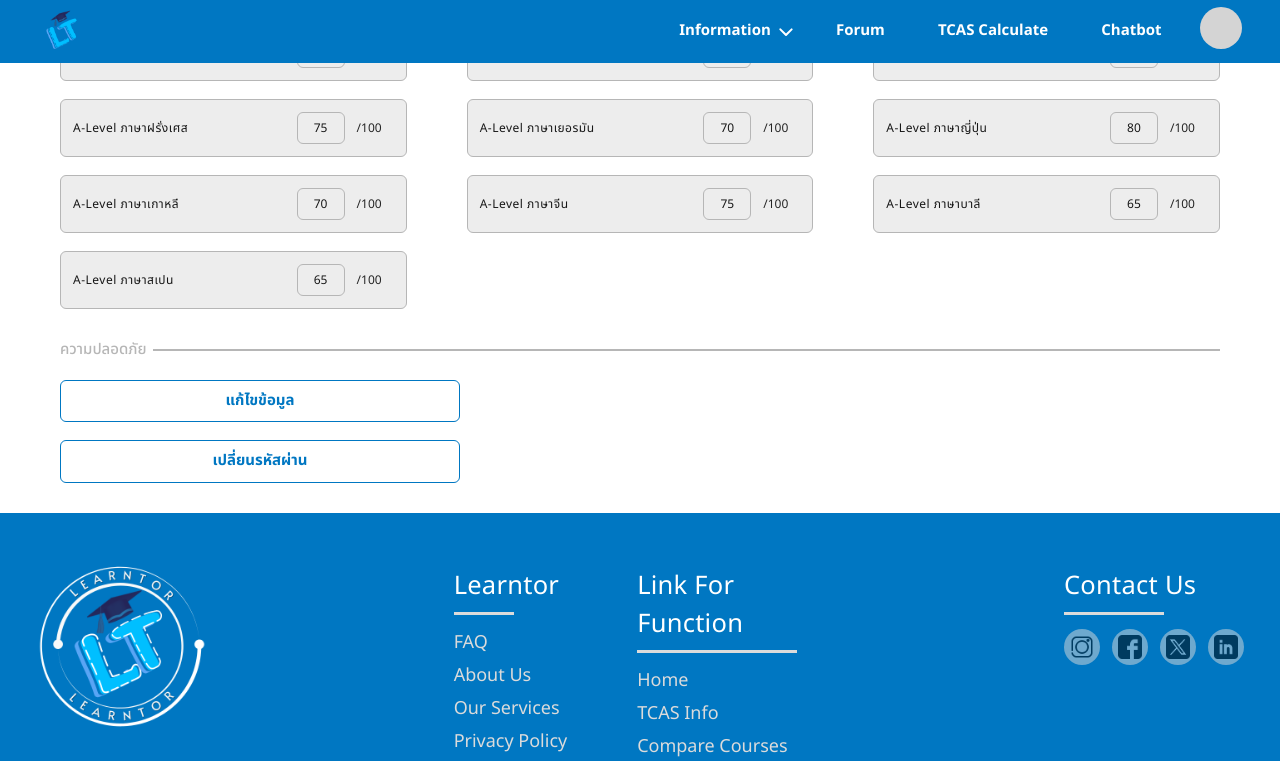
Test: UserProfile Component › cancels changes when cancel button is clicked
(page scrolled)
Note: Enter edit mode
Click the button "แก้ไขข้อมูล".
click(260, 401)  # box [60, 380, 460, 422]
(page scrolled)
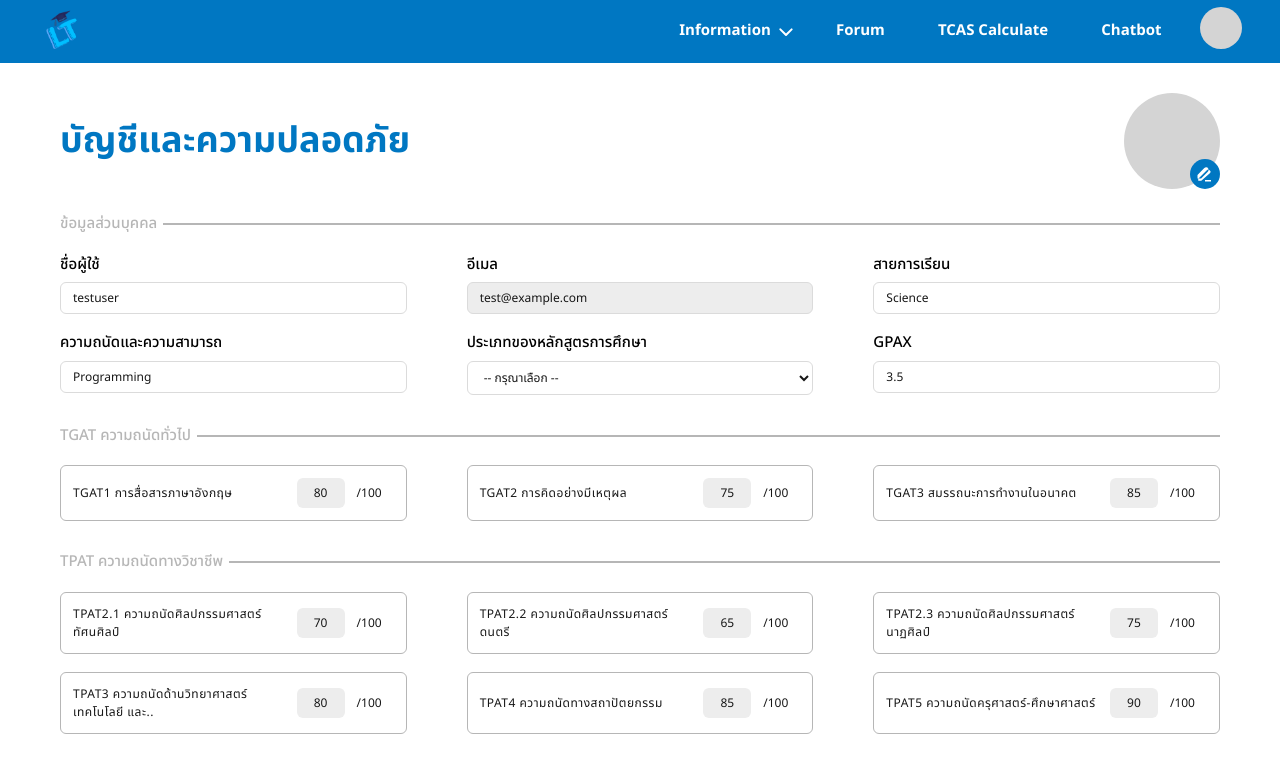
Note: Change some values
Replace the text in the field showing "testuser" below "ชื่อผู้ใช้" with "newusername" at point(233, 298), box [60, 282, 407, 314]
(page scrolled)
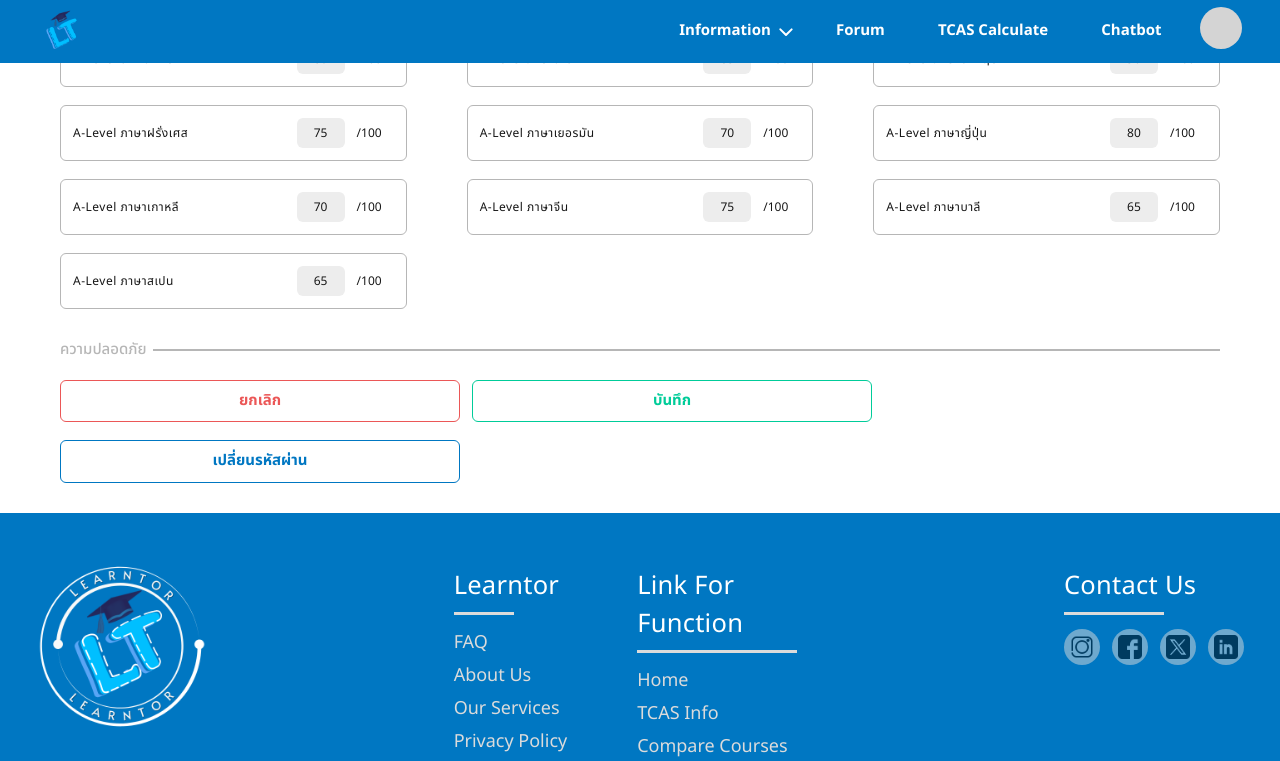
Note: Click cancel
Click the button "ยกเลิก".
click(260, 401)  # box [60, 380, 460, 422]
(page scrolled)
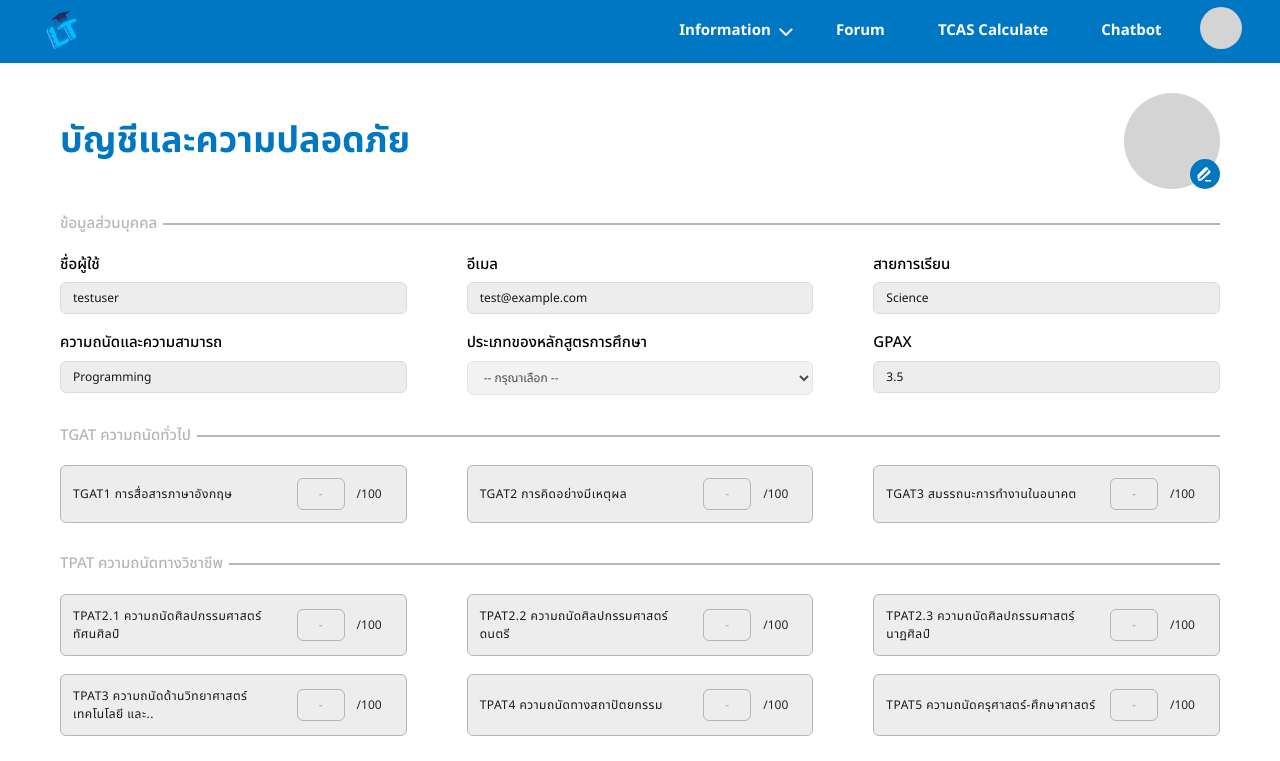
Now the field showing "testuser" below "ชื่อผู้ใช้" is shown, box [60, 282, 407, 314]
